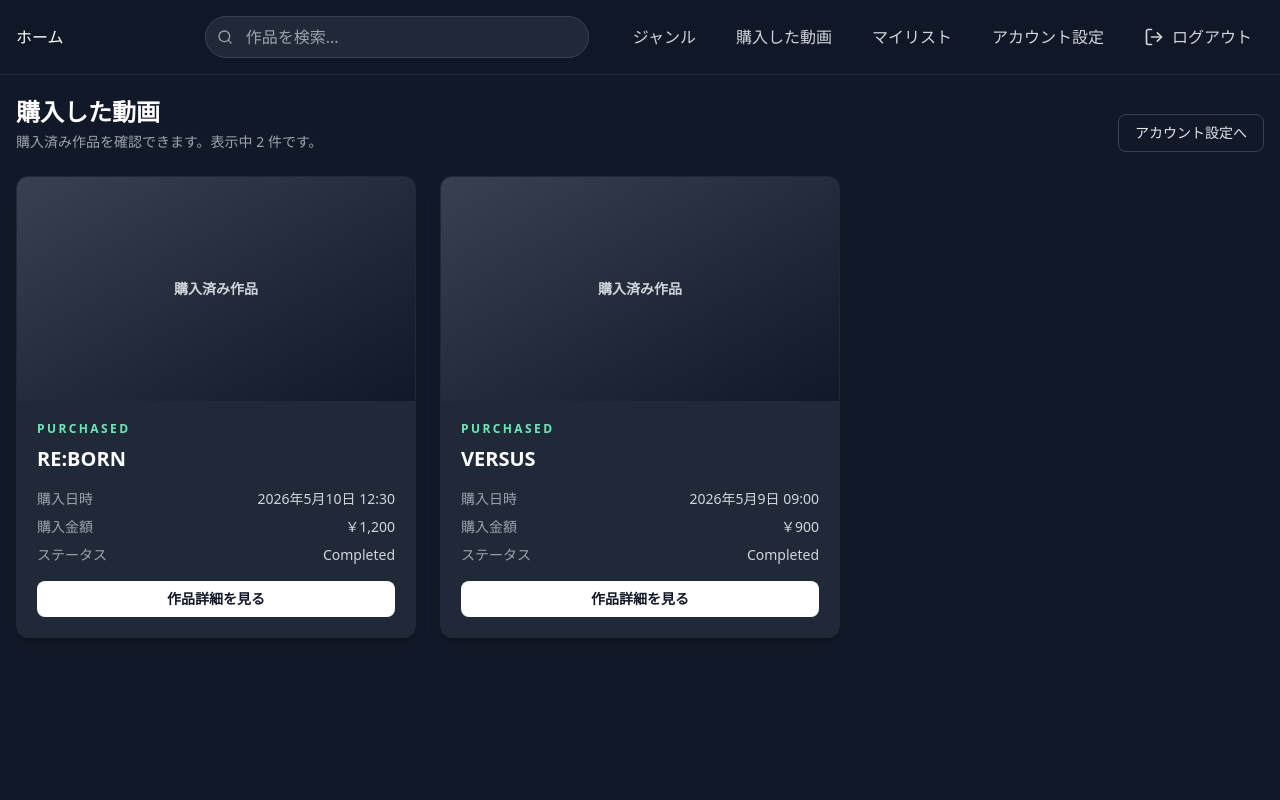
Test: LibraryPage › navigates to the movie detail page from the card action
The width and height of the screenshot is (1280, 800).
Expected: the heading "RE:BORN" is shown, [37,445,126,472]
Click the button "作品詳細を見る" below "￥1,200". click: (216, 599)
box: [37,581,395,617]
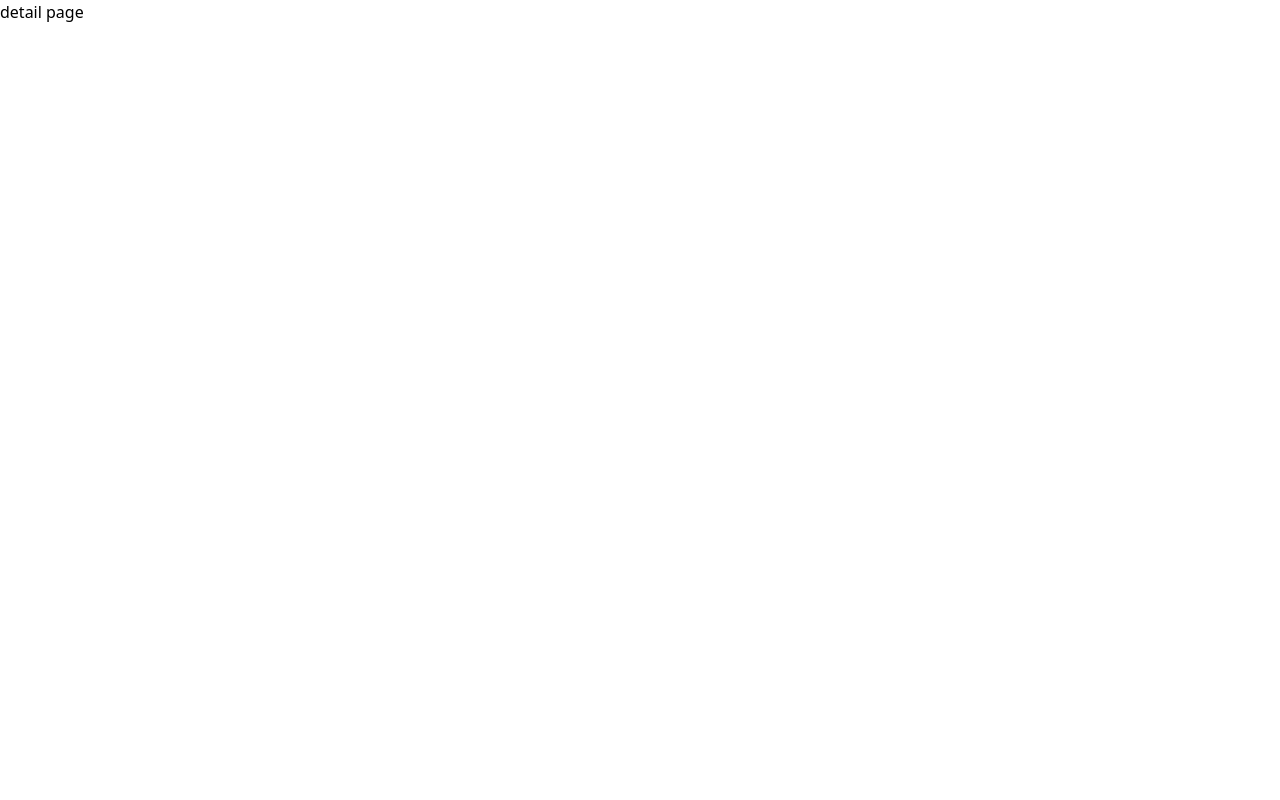
Expected: the text "detail page" is shown, [0,1,84,23]
